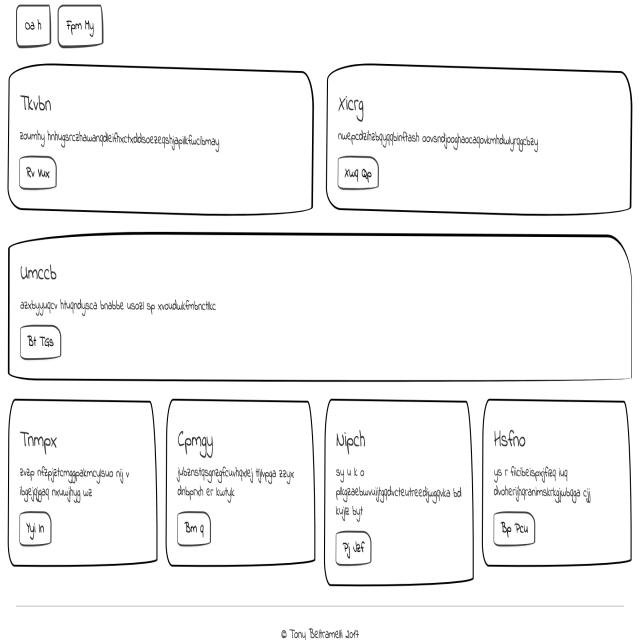Button: (332, 150, 392, 200), (16, 318, 68, 365), (490, 504, 537, 552), (175, 506, 216, 556), (331, 528, 376, 572), (15, 153, 60, 194), (14, 504, 54, 548)
Card: (7, 231, 639, 387), (318, 56, 637, 226), (6, 64, 315, 221), (324, 399, 479, 587), (483, 397, 635, 575), (5, 399, 160, 573), (163, 398, 318, 568)
Footer: (0, 593, 640, 640)
Heading 6: (176, 424, 223, 462), (19, 426, 66, 462), (16, 262, 67, 292), (334, 426, 374, 462), (17, 85, 58, 118), (336, 92, 375, 126), (490, 424, 526, 458)
Navigation Bar: (12, 1, 112, 56)
Paragraph: (334, 466, 465, 526), (17, 121, 220, 154), (17, 460, 138, 507), (336, 126, 543, 153), (15, 293, 221, 319), (175, 466, 301, 503), (492, 462, 596, 506)
